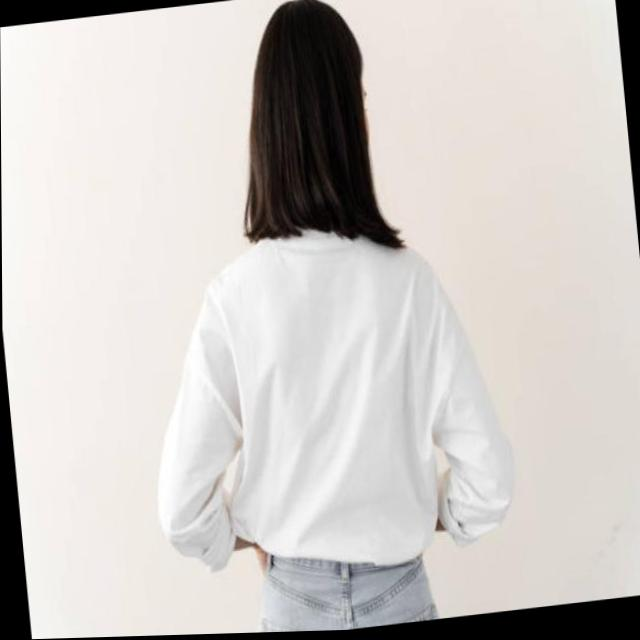no helmet: (231, 0, 404, 261)
